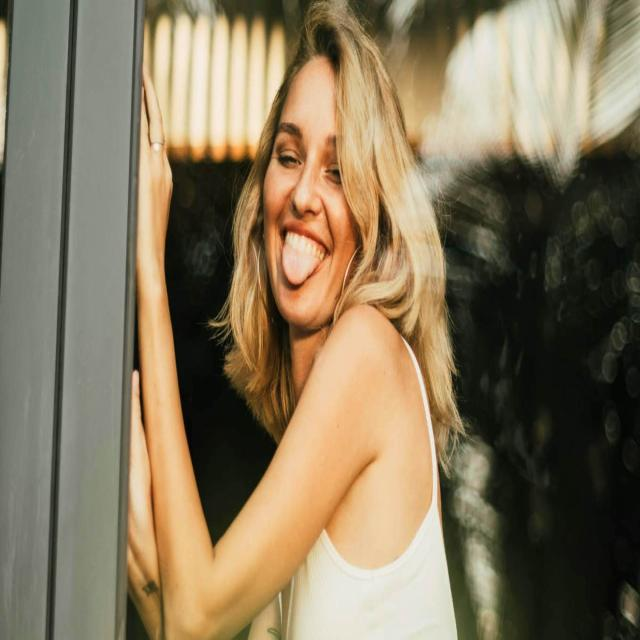sem_oculos: (262, 110, 378, 196)
